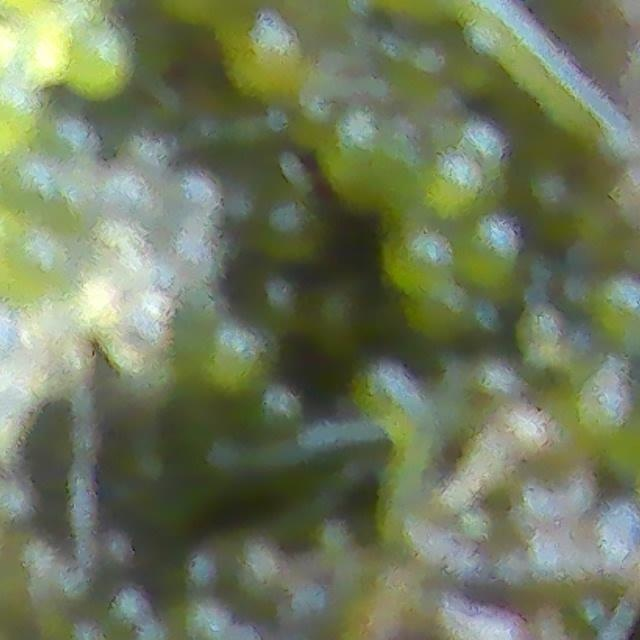SeaGrape: (212, 0, 303, 98), (324, 105, 398, 194), (573, 361, 635, 444), (414, 152, 484, 224), (56, 25, 125, 98), (455, 215, 522, 285), (103, 297, 167, 370), (0, 230, 65, 301), (92, 224, 150, 301), (389, 231, 452, 301), (0, 160, 66, 226), (93, 168, 160, 228), (167, 164, 221, 224), (211, 330, 265, 386), (165, 231, 212, 288), (603, 278, 640, 349), (516, 313, 563, 356)
